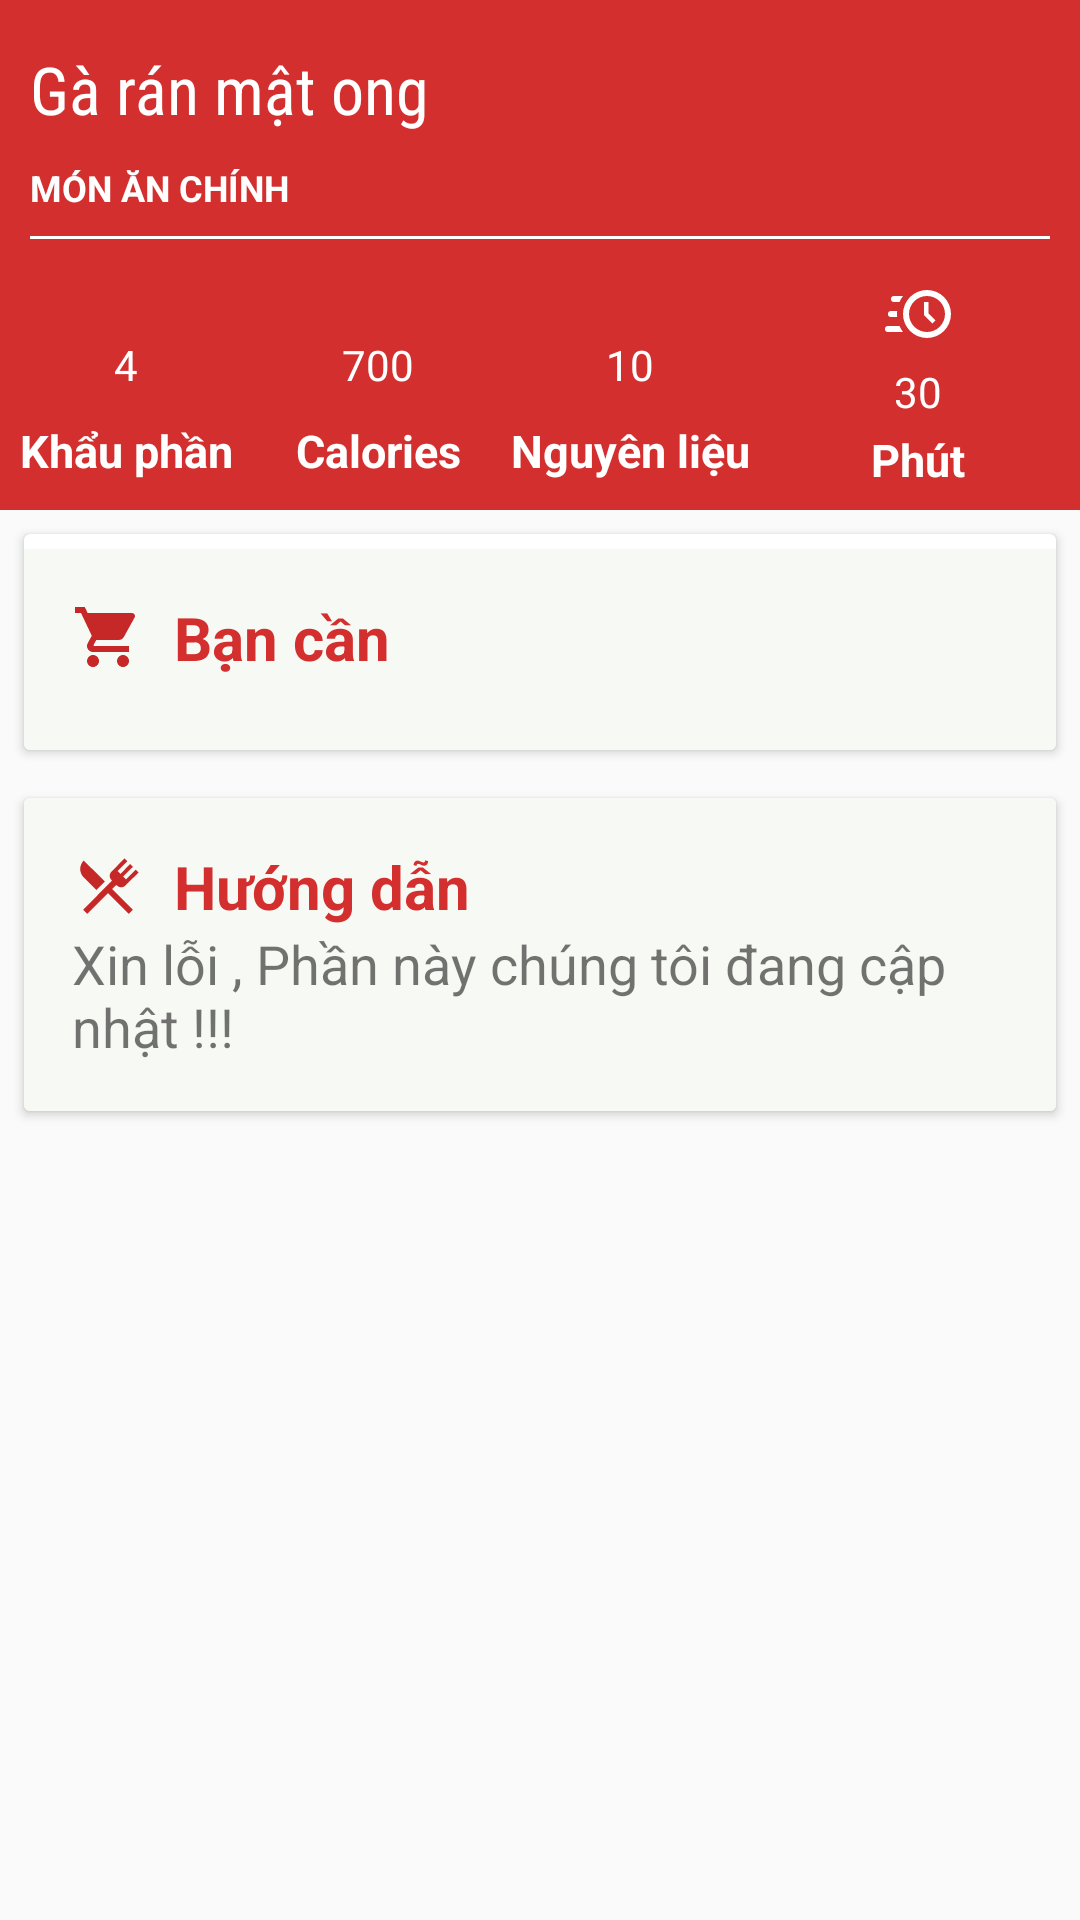

Screen size 1080 x 1920. Icon name, then its box in pixels as (x1, y1, x2, y2):
cart: (75, 607, 135, 667)
clock fast: (885, 290, 951, 338)
silverware: (80, 858, 139, 914)
